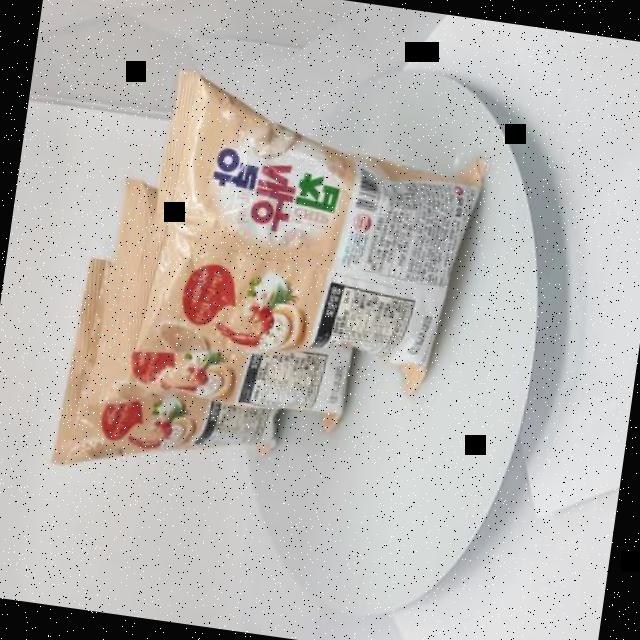snack_bag: (39, 45, 502, 553)
